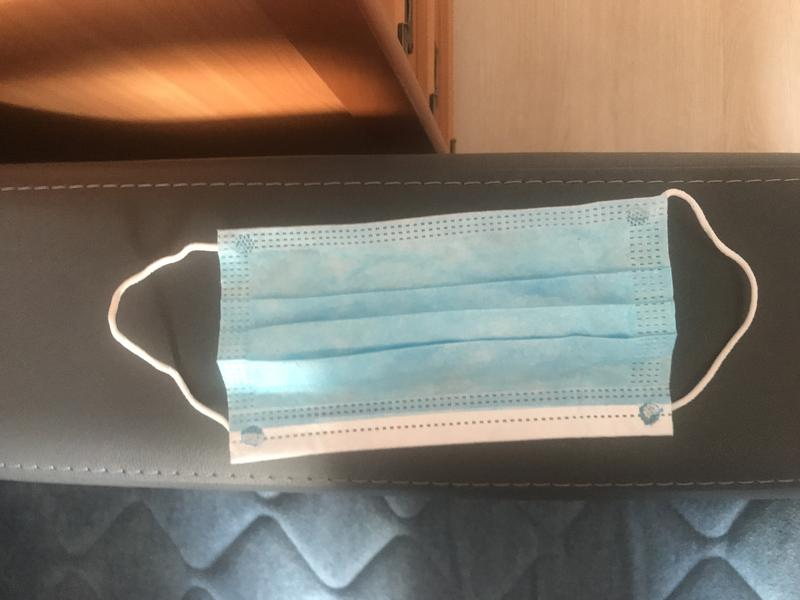medical_mask: (106, 188, 757, 464)
